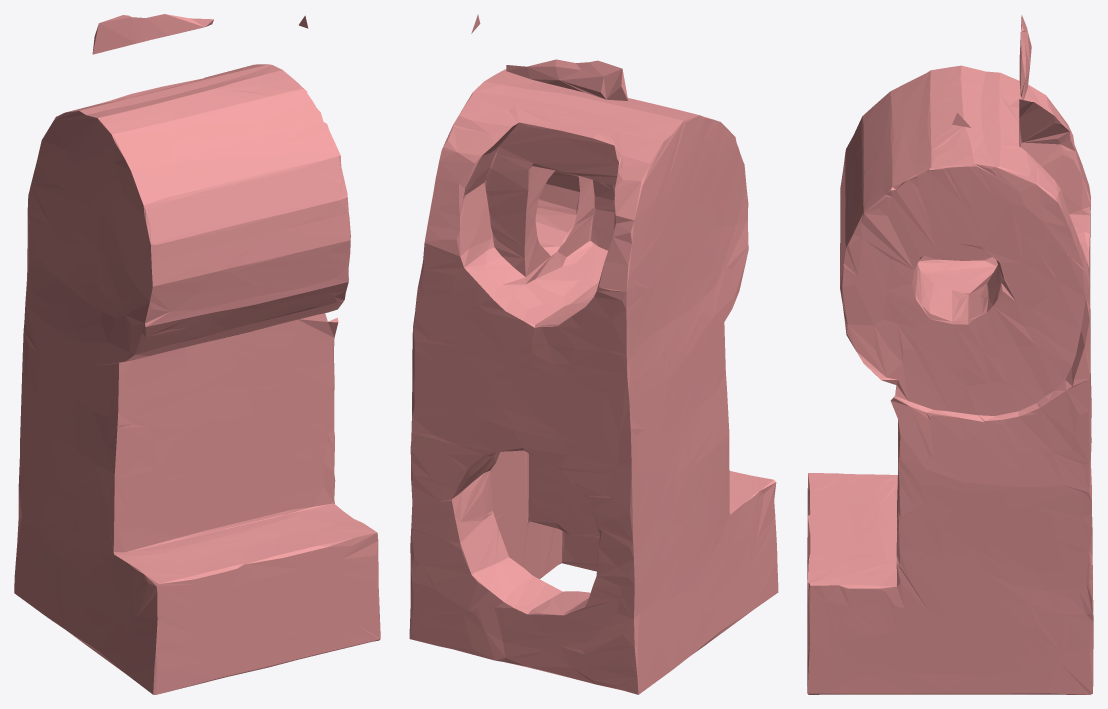
File: spider-2.glb
3 renders of one model, left to right at view 1: azimuth 30°, elevation 25°; view 2: azimuth 150°, elevation 25°; view 3: azimuth 270°, elevation 25°, orthographic.
Visible parts, largest first — view 1: part_02; view 2: part_02; view 3: part_02.
Boxes of the visible parts, x1,y1,x2,y2 form: part_02: [14, 14, 380, 694]; part_02: [409, 14, 778, 694]; part_02: [807, 15, 1093, 694].
Size of the model in its own units: 0.169 by 0.4167 by 0.1815.
